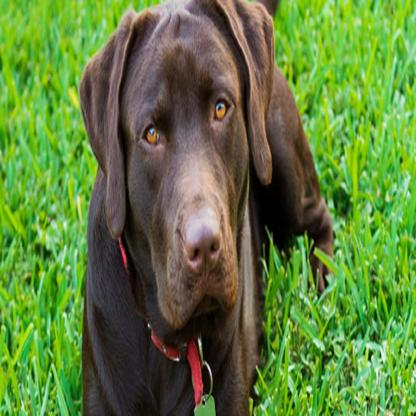dog: (75, 2, 334, 416)
